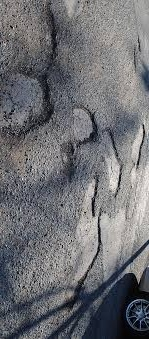pothole: (64, 173, 104, 314), (0, 70, 52, 135), (3, 6, 56, 66), (63, 100, 102, 147), (103, 123, 121, 201), (128, 121, 148, 166), (57, 147, 80, 180)
